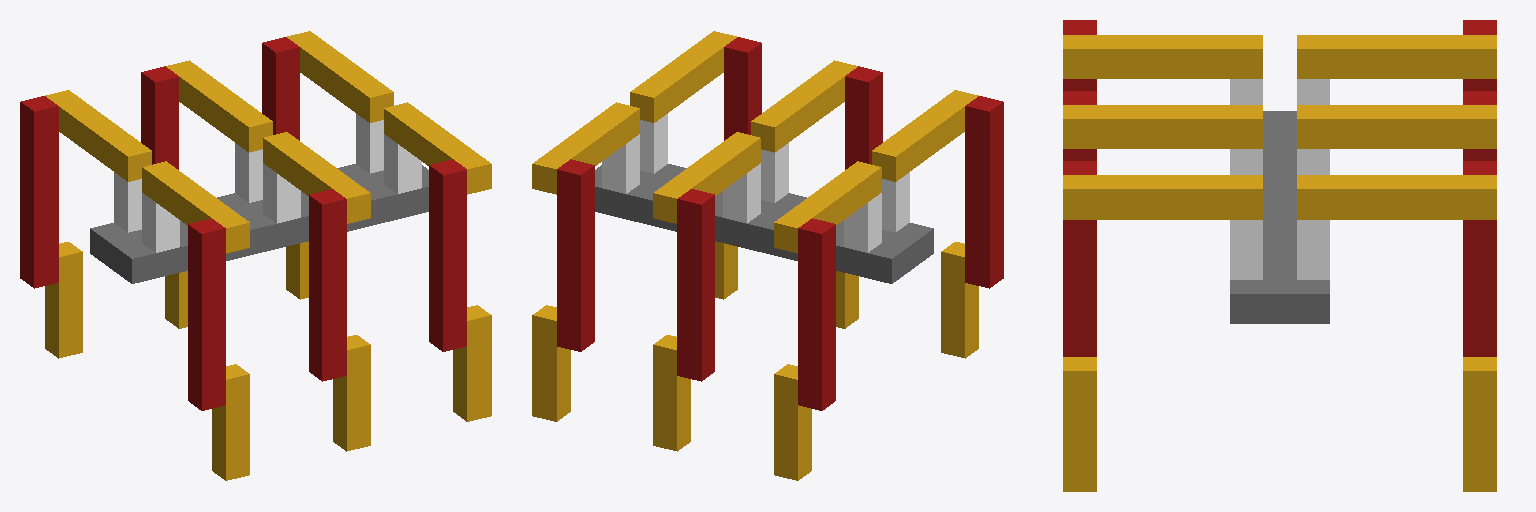
URDF robot description (v0):
<?xml version="1.0" ?>
<!-- =================================================================================== -->
<!-- |    This document was autogenerated by xacro from v0.urdf.xacro                  | -->
<!-- |    EDITING THIS FILE BY HAND IS NOT RECOMMENDED                                 | -->
<!-- =================================================================================== -->
<robot name="v0">
  <material name="grey">
    <color rgba="0.5 0.5 0.5 1"/>
  </material>
  <material name="white">
    <color rgba="1 1 1 1"/>
  </material>
  <material name="yellow">
    <color rgba="0.91 0.7 0.14 1"/>
  </material>
  <material name="red">
    <color rgba="0.71 0.14 0.14 1"/>
  </material>
  <link name="body">
    <visual>
      <geometry>
        <box size="1.3 0.3 0.1"/>
      </geometry>
      <material name="grey"/>
      <origin rpy="0 0 0" xyz="0 0 0.7"/>
    </visual>
    <collision>
      <geometry>
        <box size="1.3 0.3 0.1"/>
      </geometry>
      <origin rpy="0 0 0" xyz="0 0 0.7"/>
    </collision>
    <inertial>
      <mass value="6.240000000000001"/>
      <inertia ixx="0.052000000000000005" ixy="0.0" ixz="0.0" iyy="0.8840000000000001" iyz="0.0" izz="0.9256000000000002"/>
    </inertial>
  </link>
  <link name="l1_segment_1">
    <visual>
      <geometry>
        <box size="0.1 0.1 0.2"/>
      </geometry>
      <material name="white"/>
      <origin rpy="0 0 0" xyz="0 0 0.1"/>
    </visual>
    <collision>
      <geometry>
        <box size="0.1 0.1 0.2"/>
      </geometry>
      <origin rpy="0 0 0" xyz="0 0 0.1"/>
    </collision>
    <inertial>
      <mass value="0.32000000000000006"/>
      <inertia ixx="0.001333333333333334" ixy="0.0" ixz="0.0" iyy="0.001333333333333334" iyz="0.0" izz="0.0005333333333333336"/>
    </inertial>
  </link>
  <joint name="l1_base_to_joint_1" type="fixed">
    <parent link="body"/>
    <child link="l1_segment_1"/>
    <origin rpy="0 0 0" xyz="0.5 0.1 .75"/>
  </joint>
  <link name="l1_segment_2_HIP">
    <visual>
      <geometry>
        <box size="0.1 0.6 0.1"/>
      </geometry>
      <material name="yellow"/>
      <origin rpy="0 0 0" xyz="0 0.25 0"/>
    </visual>
    <collision>
      <geometry>
        <box size="0.1 0.6 0.1"/>
      </geometry>
      <origin rpy="0 0 0" xyz="0 0.25 0"/>
    </collision>
    <inertial>
      <mass value="0.96"/>
      <inertia ixx="0.029599999999999994" ixy="0.0" ixz="0.0" iyy="0.0016" iyz="0.0" izz="0.029599999999999994"/>
    </inertial>
  </link>
  <joint name="l1_joint_1_to_2" type="revolute">
    <parent link="l1_segment_1"/>
    <child link="l1_segment_2_HIP"/>
    <origin rpy="0 0 0" xyz="0 0 0.25"/>
    <axis xyz="0.0 0.0 1.0"/>
    <limit effort="55" lower="-1.2" upper="1.2" velocity="29"/>
  </joint>
  <link name="l1_segment_3_THIGH">
    <visual>
      <geometry>
        <box size="0.1 0.1 0.7"/>
      </geometry>
      <material name="red"/>
      <origin rpy="0 0 0" xyz="0 0 -0.3"/>
    </visual>
    <collision>
      <geometry>
        <box size="0.1 0.1 0.7"/>
      </geometry>
      <origin rpy="0 0 0" xyz="0 0 -0.3"/>
    </collision>
    <inertial>
      <mass value="1.12"/>
      <inertia ixx="0.04666666666666666" ixy="0.0" ixz="0.0" iyy="0.04666666666666666" iyz="0.0" izz="0.001866666666666667"/>
    </inertial>
  </link>
  <joint name="l1_joint_2_to_3" type="revolute">
    <parent link="l1_segment_2_HIP"/>
    <child link="l1_segment_3_THIGH"/>
    <origin rpy="0 0 0" xyz="-0.1 0.5 0"/>
    <axis xyz="1.0 0.0 0.0"/>
    <limit effort="55" lower="-0.2" upper="0.75" velocity="29"/>
  </joint>
  <link name="l1_segment_4_FOOT">
    <visual>
      <geometry>
        <box size="0.1 0.1 0.4"/>
      </geometry>
      <material name="yellow"/>
      <origin rpy="0 0 0" xyz="0 0 -0.2"/>
    </visual>
    <collision>
      <geometry>
        <box size="0.1 0.1 0.4"/>
      </geometry>
      <origin rpy="0 0 0" xyz="0 0 -0.2"/>
    </collision>
    <inertial>
      <mass value="0.6400000000000001"/>
      <inertia ixx="0.00906666666666667" ixy="0.0" ixz="0.0" iyy="0.00906666666666667" iyz="0.0" izz="0.0010666666666666672"/>
    </inertial>
  </link>
  <joint name="l1_joint_3_to_4_FOOT" type="revolute">
    <parent link="l1_segment_3_THIGH"/>
    <child link="l1_segment_4_FOOT"/>
    <origin rpy="0 0 0" xyz="0.1 0 -0.55"/>
    <axis xyz="1.0 0.0 0.0"/>
    <limit effort="55" lower="-0.2" upper="0.5" velocity="29"/>
  </joint>
  <link name="l2_segment_1">
    <visual>
      <geometry>
        <box size="0.1 0.1 0.2"/>
      </geometry>
      <material name="white"/>
      <origin rpy="0 0 0" xyz="0 0 0.1"/>
    </visual>
    <collision>
      <geometry>
        <box size="0.1 0.1 0.2"/>
      </geometry>
      <origin rpy="0 0 0" xyz="0 0 0.1"/>
    </collision>
    <inertial>
      <mass value="0.32000000000000006"/>
      <inertia ixx="0.001333333333333334" ixy="0.0" ixz="0.0" iyy="0.001333333333333334" iyz="0.0" izz="0.0005333333333333336"/>
    </inertial>
  </link>
  <joint name="l2_base_to_joint_1" type="fixed">
    <parent link="body"/>
    <child link="l2_segment_1"/>
    <origin rpy="0 0 0" xyz="0 0.1 .75"/>
  </joint>
  <link name="l2_segment_2_HIP">
    <visual>
      <geometry>
        <box size="0.1 0.6 0.1"/>
      </geometry>
      <material name="yellow"/>
      <origin rpy="0 0 0" xyz="0 0.25 0"/>
    </visual>
    <collision>
      <geometry>
        <box size="0.1 0.6 0.1"/>
      </geometry>
      <origin rpy="0 0 0" xyz="0 0.25 0"/>
    </collision>
    <inertial>
      <mass value="0.96"/>
      <inertia ixx="0.029599999999999994" ixy="0.0" ixz="0.0" iyy="0.0016" iyz="0.0" izz="0.029599999999999994"/>
    </inertial>
  </link>
  <joint name="l2_joint_1_to_2" type="revolute">
    <parent link="l2_segment_1"/>
    <child link="l2_segment_2_HIP"/>
    <origin rpy="0 0 0" xyz="0 0 0.25"/>
    <axis xyz="0.0 0.0 1.0"/>
    <limit effort="55" lower="-1.2" upper="1.2" velocity="29"/>
  </joint>
  <link name="l2_segment_3_THIGH">
    <visual>
      <geometry>
        <box size="0.1 0.1 0.7"/>
      </geometry>
      <material name="red"/>
      <origin rpy="0 0 0" xyz="0 0 -0.3"/>
    </visual>
    <collision>
      <geometry>
        <box size="0.1 0.1 0.7"/>
      </geometry>
      <origin rpy="0 0 0" xyz="0 0 -0.3"/>
    </collision>
    <inertial>
      <mass value="1.12"/>
      <inertia ixx="0.04666666666666666" ixy="0.0" ixz="0.0" iyy="0.04666666666666666" iyz="0.0" izz="0.001866666666666667"/>
    </inertial>
  </link>
  <joint name="l2_joint_2_to_3" type="revolute">
    <parent link="l2_segment_2_HIP"/>
    <child link="l2_segment_3_THIGH"/>
    <origin rpy="0 0 0" xyz="-0.1 0.5 0"/>
    <axis xyz="1.0 0.0 0.0"/>
    <limit effort="55" lower="-0.2" upper="0.75" velocity="29"/>
  </joint>
  <link name="l2_segment_4_FOOT">
    <visual>
      <geometry>
        <box size="0.1 0.1 0.4"/>
      </geometry>
      <material name="yellow"/>
      <origin rpy="0 0 0" xyz="0 0 -0.2"/>
    </visual>
    <collision>
      <geometry>
        <box size="0.1 0.1 0.4"/>
      </geometry>
      <origin rpy="0 0 0" xyz="0 0 -0.2"/>
    </collision>
    <inertial>
      <mass value="0.6400000000000001"/>
      <inertia ixx="0.00906666666666667" ixy="0.0" ixz="0.0" iyy="0.00906666666666667" iyz="0.0" izz="0.0010666666666666672"/>
    </inertial>
  </link>
  <joint name="l2_joint_3_to_4_FOOT" type="revolute">
    <parent link="l2_segment_3_THIGH"/>
    <child link="l2_segment_4_FOOT"/>
    <origin rpy="0 0 0" xyz="0.1 0 -0.55"/>
    <axis xyz="1.0 0.0 0.0"/>
    <limit effort="55" lower="-0.2" upper="0.5" velocity="29"/>
  </joint>
  <link name="l3_segment_1">
    <visual>
      <geometry>
        <box size="0.1 0.1 0.2"/>
      </geometry>
      <material name="white"/>
      <origin rpy="0 0 0" xyz="0 0 0.1"/>
    </visual>
    <collision>
      <geometry>
        <box size="0.1 0.1 0.2"/>
      </geometry>
      <origin rpy="0 0 0" xyz="0 0 0.1"/>
    </collision>
    <inertial>
      <mass value="0.32000000000000006"/>
      <inertia ixx="0.001333333333333334" ixy="0.0" ixz="0.0" iyy="0.001333333333333334" iyz="0.0" izz="0.0005333333333333336"/>
    </inertial>
  </link>
  <joint name="l3_base_to_joint_1" type="fixed">
    <parent link="body"/>
    <child link="l3_segment_1"/>
    <origin rpy="0 0 0" xyz="-0.5 0.1 .75"/>
  </joint>
  <link name="l3_segment_2_HIP">
    <visual>
      <geometry>
        <box size="0.1 0.6 0.1"/>
      </geometry>
      <material name="yellow"/>
      <origin rpy="0 0 0" xyz="0 0.25 0"/>
    </visual>
    <collision>
      <geometry>
        <box size="0.1 0.6 0.1"/>
      </geometry>
      <origin rpy="0 0 0" xyz="0 0.25 0"/>
    </collision>
    <inertial>
      <mass value="0.96"/>
      <inertia ixx="0.029599999999999994" ixy="0.0" ixz="0.0" iyy="0.0016" iyz="0.0" izz="0.029599999999999994"/>
    </inertial>
  </link>
  <joint name="l3_joint_1_to_2" type="revolute">
    <parent link="l3_segment_1"/>
    <child link="l3_segment_2_HIP"/>
    <origin rpy="0 0 0" xyz="0 0 0.25"/>
    <axis xyz="0.0 0.0 1.0"/>
    <limit effort="55" lower="-1.2" upper="1.2" velocity="29"/>
  </joint>
  <link name="l3_segment_3_THIGH">
    <visual>
      <geometry>
        <box size="0.1 0.1 0.7"/>
      </geometry>
      <material name="red"/>
      <origin rpy="0 0 0" xyz="0 0 -0.3"/>
    </visual>
    <collision>
      <geometry>
        <box size="0.1 0.1 0.7"/>
      </geometry>
      <origin rpy="0 0 0" xyz="0 0 -0.3"/>
    </collision>
    <inertial>
      <mass value="1.12"/>
      <inertia ixx="0.04666666666666666" ixy="0.0" ixz="0.0" iyy="0.04666666666666666" iyz="0.0" izz="0.001866666666666667"/>
    </inertial>
  </link>
  <joint name="l3_joint_2_to_3" type="revolute">
    <parent link="l3_segment_2_HIP"/>
    <child link="l3_segment_3_THIGH"/>
    <origin rpy="0 0 0" xyz="-0.1 0.5 0"/>
    <axis xyz="1.0 0.0 0.0"/>
    <limit effort="55" lower="-0.2" upper="0.75" velocity="29"/>
  </joint>
  <link name="l3_segment_4_FOOT">
    <visual>
      <geometry>
        <box size="0.1 0.1 0.4"/>
      </geometry>
      <material name="yellow"/>
      <origin rpy="0 0 0" xyz="0 0 -0.2"/>
    </visual>
    <collision>
      <geometry>
        <box size="0.1 0.1 0.4"/>
      </geometry>
      <origin rpy="0 0 0" xyz="0 0 -0.2"/>
    </collision>
    <inertial>
      <mass value="0.6400000000000001"/>
      <inertia ixx="0.00906666666666667" ixy="0.0" ixz="0.0" iyy="0.00906666666666667" iyz="0.0" izz="0.0010666666666666672"/>
    </inertial>
  </link>
  <joint name="l3_joint_3_to_4_FOOT" type="revolute">
    <parent link="l3_segment_3_THIGH"/>
    <child link="l3_segment_4_FOOT"/>
    <origin rpy="0 0 0" xyz="0.1 0 -0.55"/>
    <axis xyz="1.0 0.0 0.0"/>
    <limit effort="55" lower="-0.2" upper="0.5" velocity="29"/>
  </joint>
  <link name="r1_segment_1">
    <visual>
      <geometry>
        <box size="0.1 0.1 0.2"/>
      </geometry>
      <material name="white"/>
      <origin rpy="0 0 0" xyz="0 0 0.1"/>
    </visual>
    <collision>
      <geometry>
        <box size="0.1 0.1 0.2"/>
      </geometry>
      <origin rpy="0 0 0" xyz="0 0 0.1"/>
    </collision>
    <inertial>
      <mass value="0.32000000000000006"/>
      <inertia ixx="0.001333333333333334" ixy="0.0" ixz="0.0" iyy="0.001333333333333334" iyz="0.0" izz="0.0005333333333333336"/>
    </inertial>
  </link>
  <joint name="r1_base_to_joint_1" type="fixed">
    <parent link="body"/>
    <child link="r1_segment_1"/>
    <origin rpy="0 0 0" xyz="0.5 -0.1 .75"/>
  </joint>
  <link name="r1_segment_2_HIP">
    <visual>
      <geometry>
        <box size="0.1 0.6 0.1"/>
      </geometry>
      <material name="yellow"/>
      <origin rpy="0 0 0" xyz="0 -0.25 0"/>
    </visual>
    <collision>
      <geometry>
        <box size="0.1 0.6 0.1"/>
      </geometry>
      <origin rpy="0 0 0" xyz="0 -0.25 0"/>
    </collision>
    <inertial>
      <mass value="0.96"/>
      <inertia ixx="0.029599999999999994" ixy="0.0" ixz="0.0" iyy="0.0016" iyz="0.0" izz="0.029599999999999994"/>
    </inertial>
  </link>
  <joint name="r1_joint_1_to_2" type="revolute">
    <parent link="r1_segment_1"/>
    <child link="r1_segment_2_HIP"/>
    <origin rpy="0 0 0" xyz="0 0 0.25"/>
    <axis xyz="0.0 0.0 1.0"/>
    <limit effort="55" lower="-1.2" upper="1.2" velocity="29"/>
  </joint>
  <link name="r1_segment_3_THIGH">
    <visual>
      <geometry>
        <box size="0.1 0.1 0.7"/>
      </geometry>
      <material name="red"/>
      <origin rpy="0 0 0" xyz="0 0 -0.3"/>
    </visual>
    <collision>
      <geometry>
        <box size="0.1 0.1 0.7"/>
      </geometry>
      <origin rpy="0 0 0" xyz="0 0 -0.3"/>
    </collision>
    <inertial>
      <mass value="1.12"/>
      <inertia ixx="0.04666666666666666" ixy="0.0" ixz="0.0" iyy="0.04666666666666666" iyz="0.0" izz="0.001866666666666667"/>
    </inertial>
  </link>
  <joint name="r1_joint_2_to_3" type="revolute">
    <parent link="r1_segment_2_HIP"/>
    <child link="r1_segment_3_THIGH"/>
    <origin rpy="0 0 0" xyz="-0.1 -0.5 0"/>
    <axis xyz="1.0 0.0 0.0"/>
    <limit effort="55" lower="-0.75" upper="0.2" velocity="29"/>
  </joint>
  <link name="r1_segment_4_FOOT">
    <visual>
      <geometry>
        <box size="0.1 0.1 0.4"/>
      </geometry>
      <material name="yellow"/>
      <origin rpy="0 0 0" xyz="0 0 -0.2"/>
    </visual>
    <collision>
      <geometry>
        <box size="0.1 0.1 0.4"/>
      </geometry>
      <origin rpy="0 0 0" xyz="0 0 -0.2"/>
    </collision>
    <inertial>
      <mass value="0.6400000000000001"/>
      <inertia ixx="0.00906666666666667" ixy="0.0" ixz="0.0" iyy="0.00906666666666667" iyz="0.0" izz="0.0010666666666666672"/>
    </inertial>
  </link>
  <joint name="r1_joint_3_to_4_FOOT" type="revolute">
    <parent link="r1_segment_3_THIGH"/>
    <child link="r1_segment_4_FOOT"/>
    <origin rpy="0 0 0" xyz="0.1 0 -0.55"/>
    <axis xyz="1.0 0.0 0.0"/>
    <limit effort="55" lower="-0.5" upper="0.2" velocity="29"/>
  </joint>
  <link name="r2_segment_1">
    <visual>
      <geometry>
        <box size="0.1 0.1 0.2"/>
      </geometry>
      <material name="white"/>
      <origin rpy="0 0 0" xyz="0 0 0.1"/>
    </visual>
    <collision>
      <geometry>
        <box size="0.1 0.1 0.2"/>
      </geometry>
      <origin rpy="0 0 0" xyz="0 0 0.1"/>
    </collision>
    <inertial>
      <mass value="0.32000000000000006"/>
      <inertia ixx="0.001333333333333334" ixy="0.0" ixz="0.0" iyy="0.001333333333333334" iyz="0.0" izz="0.0005333333333333336"/>
    </inertial>
  </link>
  <joint name="r2_base_to_joint_1" type="fixed">
    <parent link="body"/>
    <child link="r2_segment_1"/>
    <origin rpy="0 0 0" xyz="0 -0.1 .75"/>
  </joint>
  <link name="r2_segment_2_HIP">
    <visual>
      <geometry>
        <box size="0.1 0.6 0.1"/>
      </geometry>
      <material name="yellow"/>
      <origin rpy="0 0 0" xyz="0 -0.25 0"/>
    </visual>
    <collision>
      <geometry>
        <box size="0.1 0.6 0.1"/>
      </geometry>
      <origin rpy="0 0 0" xyz="0 -0.25 0"/>
    </collision>
    <inertial>
      <mass value="0.96"/>
      <inertia ixx="0.029599999999999994" ixy="0.0" ixz="0.0" iyy="0.0016" iyz="0.0" izz="0.029599999999999994"/>
    </inertial>
  </link>
  <joint name="r2_joint_1_to_2" type="revolute">
    <parent link="r2_segment_1"/>
    <child link="r2_segment_2_HIP"/>
    <origin rpy="0 0 0" xyz="0 0 0.25"/>
    <axis xyz="0.0 0.0 1.0"/>
    <limit effort="55" lower="-1.2" upper="1.2" velocity="29"/>
  </joint>
  <link name="r2_segment_3_THIGH">
    <visual>
      <geometry>
        <box size="0.1 0.1 0.7"/>
      </geometry>
      <material name="red"/>
      <origin rpy="0 0 0" xyz="0 0 -0.3"/>
    </visual>
    <collision>
      <geometry>
        <box size="0.1 0.1 0.7"/>
      </geometry>
      <origin rpy="0 0 0" xyz="0 0 -0.3"/>
    </collision>
    <inertial>
      <mass value="1.12"/>
      <inertia ixx="0.04666666666666666" ixy="0.0" ixz="0.0" iyy="0.04666666666666666" iyz="0.0" izz="0.001866666666666667"/>
    </inertial>
  </link>
  <joint name="r2_joint_2_to_3" type="revolute">
    <parent link="r2_segment_2_HIP"/>
    <child link="r2_segment_3_THIGH"/>
    <origin rpy="0 0 0" xyz="-0.1 -0.5 0"/>
    <axis xyz="1.0 0.0 0.0"/>
    <limit effort="55" lower="-0.75" upper="0.2" velocity="29"/>
  </joint>
  <link name="r2_segment_4_FOOT">
    <visual>
      <geometry>
        <box size="0.1 0.1 0.4"/>
      </geometry>
      <material name="yellow"/>
      <origin rpy="0 0 0" xyz="0 0 -0.2"/>
    </visual>
    <collision>
      <geometry>
        <box size="0.1 0.1 0.4"/>
      </geometry>
      <origin rpy="0 0 0" xyz="0 0 -0.2"/>
    </collision>
    <inertial>
      <mass value="0.6400000000000001"/>
      <inertia ixx="0.00906666666666667" ixy="0.0" ixz="0.0" iyy="0.00906666666666667" iyz="0.0" izz="0.0010666666666666672"/>
    </inertial>
  </link>
  <joint name="r2_joint_3_to_4_FOOT" type="revolute">
    <parent link="r2_segment_3_THIGH"/>
    <child link="r2_segment_4_FOOT"/>
    <origin rpy="0 0 0" xyz="0.1 0 -0.55"/>
    <axis xyz="1.0 0.0 0.0"/>
    <limit effort="55" lower="-0.5" upper="0.2" velocity="29"/>
  </joint>
  <link name="r3_segment_1">
    <visual>
      <geometry>
        <box size="0.1 0.1 0.2"/>
      </geometry>
      <material name="white"/>
      <origin rpy="0 0 0" xyz="0 0 0.1"/>
    </visual>
    <collision>
      <geometry>
        <box size="0.1 0.1 0.2"/>
      </geometry>
      <origin rpy="0 0 0" xyz="0 0 0.1"/>
    </collision>
    <inertial>
      <mass value="0.32000000000000006"/>
      <inertia ixx="0.001333333333333334" ixy="0.0" ixz="0.0" iyy="0.001333333333333334" iyz="0.0" izz="0.0005333333333333336"/>
    </inertial>
  </link>
  <joint name="r3_base_to_joint_1" type="fixed">
    <parent link="body"/>
    <child link="r3_segment_1"/>
    <origin rpy="0 0 0" xyz="-0.5 -0.1 .75"/>
  </joint>
  <link name="r3_segment_2_HIP">
    <visual>
      <geometry>
        <box size="0.1 0.6 0.1"/>
      </geometry>
      <material name="yellow"/>
      <origin rpy="0 0 0" xyz="0 -0.25 0"/>
    </visual>
    <collision>
      <geometry>
        <box size="0.1 0.6 0.1"/>
      </geometry>
      <origin rpy="0 0 0" xyz="0 -0.25 0"/>
    </collision>
    <inertial>
      <mass value="0.96"/>
      <inertia ixx="0.029599999999999994" ixy="0.0" ixz="0.0" iyy="0.0016" iyz="0.0" izz="0.029599999999999994"/>
    </inertial>
  </link>
  <joint name="r3_joint_1_to_2" type="revolute">
    <parent link="r3_segment_1"/>
    <child link="r3_segment_2_HIP"/>
    <origin rpy="0 0 0" xyz="0 0 0.25"/>
    <axis xyz="0.0 0.0 1.0"/>
    <limit effort="55" lower="-1.2" upper="1.2" velocity="29"/>
  </joint>
  <link name="r3_segment_3_THIGH">
    <visual>
      <geometry>
        <box size="0.1 0.1 0.7"/>
      </geometry>
      <material name="red"/>
      <origin rpy="0 0 0" xyz="0 0 -0.3"/>
    </visual>
    <collision>
      <geometry>
        <box size="0.1 0.1 0.7"/>
      </geometry>
      <origin rpy="0 0 0" xyz="0 0 -0.3"/>
    </collision>
    <inertial>
      <mass value="1.12"/>
      <inertia ixx="0.04666666666666666" ixy="0.0" ixz="0.0" iyy="0.04666666666666666" iyz="0.0" izz="0.001866666666666667"/>
    </inertial>
  </link>
  <joint name="r3_joint_2_to_3" type="revolute">
    <parent link="r3_segment_2_HIP"/>
    <child link="r3_segment_3_THIGH"/>
    <origin rpy="0 0 0" xyz="-0.1 -0.5 0"/>
    <axis xyz="1.0 0.0 0.0"/>
    <limit effort="55" lower="-0.75" upper="0.2" velocity="29"/>
  </joint>
  <link name="r3_segment_4_FOOT">
    <visual>
      <geometry>
        <box size="0.1 0.1 0.4"/>
      </geometry>
      <material name="yellow"/>
      <origin rpy="0 0 0" xyz="0 0 -0.2"/>
    </visual>
    <collision>
      <geometry>
        <box size="0.1 0.1 0.4"/>
      </geometry>
      <origin rpy="0 0 0" xyz="0 0 -0.2"/>
    </collision>
    <inertial>
      <mass value="0.6400000000000001"/>
      <inertia ixx="0.00906666666666667" ixy="0.0" ixz="0.0" iyy="0.00906666666666667" iyz="0.0" izz="0.0010666666666666672"/>
    </inertial>
  </link>
  <joint name="r3_joint_3_to_4_FOOT" type="revolute">
    <parent link="r3_segment_3_THIGH"/>
    <child link="r3_segment_4_FOOT"/>
    <origin rpy="0 0 0" xyz="0.1 0 -0.55"/>
    <axis xyz="1.0 0.0 0.0"/>
    <limit effort="55" lower="-0.5" upper="0.2" velocity="29"/>
  </joint>
</robot>

--- Render facts (derived) ---
Views: 3 orthographic renders of the robot side by side, from view 1: azimuth 30°, elevation 25°; view 2: azimuth 150°, elevation 25°; view 3: azimuth 270°, elevation 25°.
Robot: v0 — 25 links, 24 joints (18 revolute, 6 fixed); root link body; default pose: every joint at zero.
Links seen in each view (by area): view 1: body, l3_segment_3_THIGH, r1_segment_3_THIGH, r2_segment_3_THIGH, r3_segment_3_THIGH, l1_segment_2_HIP, l2_segment_2_HIP, l3_segment_2_HIP, r1_segment_2_HIP, r3_segment_2_HIP, r2_segment_2_HIP, r1_segment_4_FOOT (+13 smaller); view 2: body, r3_segment_3_THIGH, l1_segment_3_THIGH, l2_segment_3_THIGH, l3_segment_3_THIGH, r1_segment_2_HIP, r2_segment_2_HIP, r3_segment_2_HIP, l1_segment_2_HIP, l3_segment_2_HIP, l2_segment_2_HIP, l1_segment_4_FOOT (+13 smaller); view 3: body, l1_segment_2_HIP, r1_segment_2_HIP, l2_segment_2_HIP, l3_segment_2_HIP, r2_segment_2_HIP, r3_segment_2_HIP, l1_segment_3_THIGH, r1_segment_3_THIGH, l1_segment_4_FOOT, r1_segment_4_FOOT, l1_segment_1 (+9 smaller).
Link boxes in pixels (x1,y1,x2,y2): body: [90, 164, 428, 283]; l3_segment_3_THIGH: [20, 96, 58, 288]; r1_segment_3_THIGH: [429, 159, 466, 351]; r2_segment_3_THIGH: [309, 189, 346, 381]; r3_segment_3_THIGH: [188, 218, 225, 410]; l1_segment_2_HIP: [287, 31, 393, 122]; l2_segment_2_HIP: [166, 60, 272, 152]; l3_segment_2_HIP: [45, 90, 151, 181]; r1_segment_2_HIP: [384, 102, 491, 194]; r3_segment_2_HIP: [142, 161, 249, 253]; r2_segment_2_HIP: [263, 132, 370, 223]; r1_segment_4_FOOT: [453, 305, 491, 421]; body: [595, 164, 933, 283]; r3_segment_3_THIGH: [965, 96, 1003, 288]; l1_segment_3_THIGH: [557, 159, 594, 351]; l2_segment_3_THIGH: [677, 189, 714, 381]; l3_segment_3_THIGH: [798, 218, 835, 410]; r1_segment_2_HIP: [630, 31, 736, 122]; r2_segment_2_HIP: [751, 60, 857, 152]; r3_segment_2_HIP: [872, 90, 978, 181]; l1_segment_2_HIP: [532, 102, 639, 194]; l3_segment_2_HIP: [774, 161, 881, 253]; l2_segment_2_HIP: [653, 132, 760, 223]; l1_segment_4_FOOT: [532, 305, 570, 421]; body: [1230, 111, 1329, 323]; l1_segment_2_HIP: [1297, 175, 1496, 219]; r1_segment_2_HIP: [1063, 175, 1262, 219]; l2_segment_2_HIP: [1297, 105, 1496, 148]; l3_segment_2_HIP: [1297, 35, 1496, 78]; r2_segment_2_HIP: [1063, 105, 1262, 148]; r3_segment_2_HIP: [1063, 35, 1262, 78]; l1_segment_3_THIGH: [1463, 161, 1496, 356]; r1_segment_3_THIGH: [1063, 161, 1096, 356]; l1_segment_4_FOOT: [1463, 357, 1496, 491]; r1_segment_4_FOOT: [1063, 357, 1096, 491]; l1_segment_1: [1297, 220, 1329, 279].
Bounding box of the posed robot: 1.3 × 1.3 × 1 m (x, y, z).
Geometry: primitives only (box / cylinder / sphere), no mesh files.
